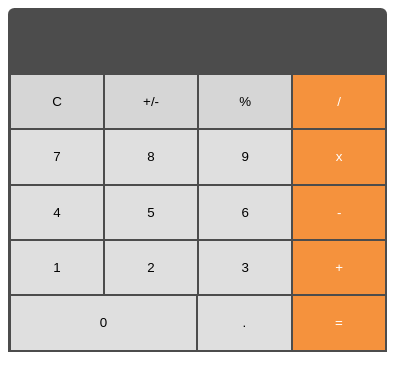
it: Calculator.vue › it shows the clicked number in the display
Click the button "1". click: point(58, 269)
box: [11, 241, 105, 296]
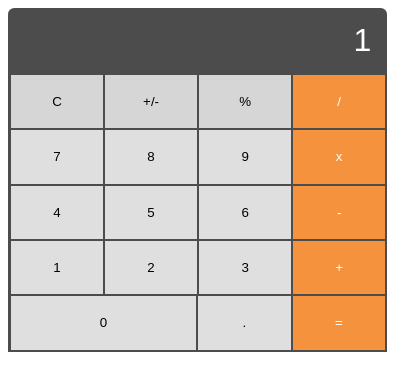
Check: the text with class "display" reads "1", box [353, 22, 371, 58]
